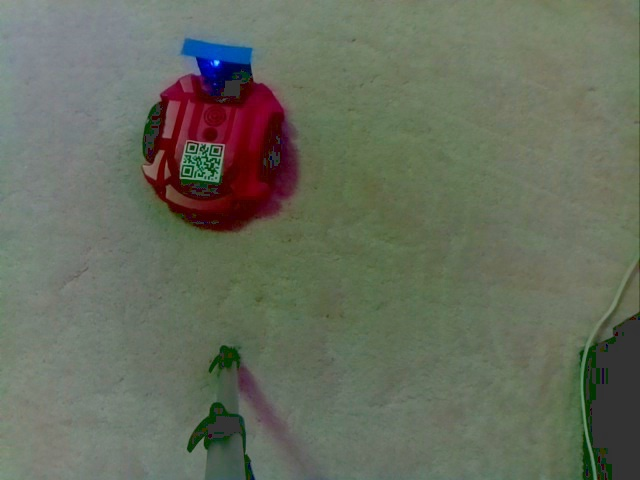board: (170, 35, 266, 91)
chassis: (133, 33, 295, 235)
